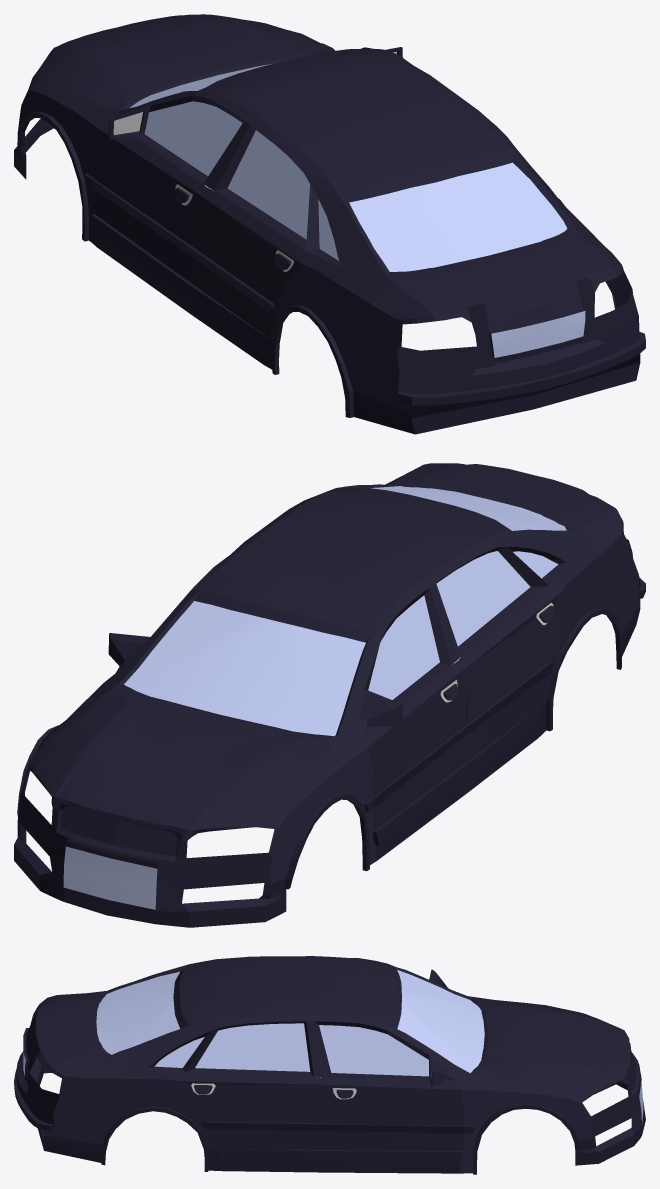
The model's file is Audi6.fbx.
The picture shows the model from 3 angles, top to bottom: view 1: azimuth 30°, elevation 25°; view 2: azimuth 150°, elevation 25°; view 3: azimuth 270°, elevation 25°; orthographic projection. The views are drawn at different scales.
Visible parts, largest first — view 1: Circle; view 2: Circle; view 3: Circle.
Boxes of the visible parts, left/top/right/bottom form: Circle: left=14, top=14, right=645, bottom=434; Circle: left=14, top=463, right=645, bottom=927; Circle: left=14, top=956, right=645, bottom=1174.
Size of the model in its own units: 121 by 78.17 by 315.
